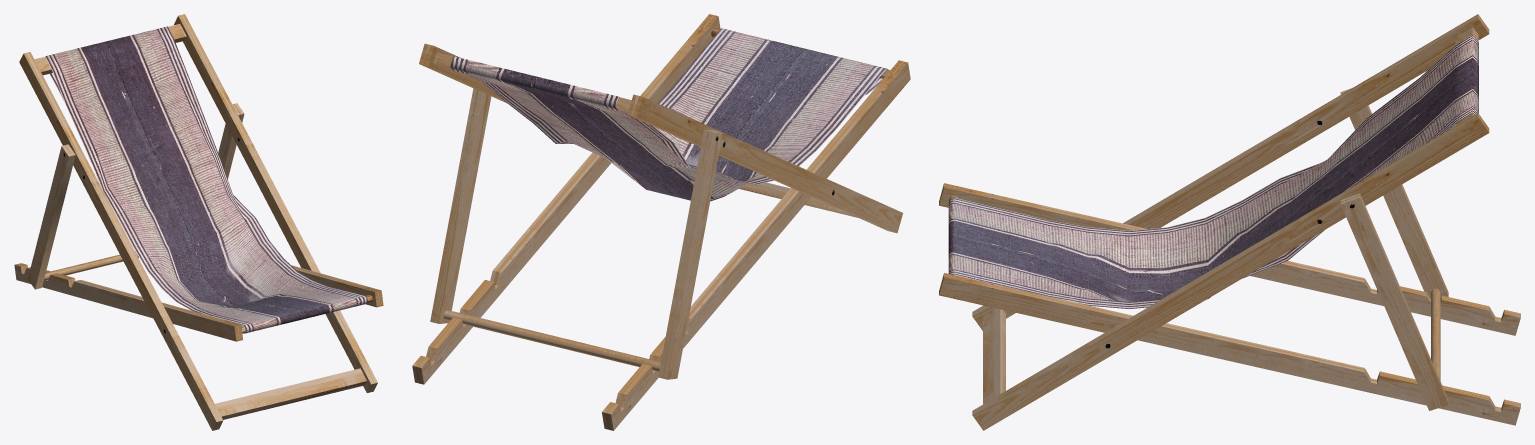
File: beach chair_01.FBX
3 renders of one model, left to right at view 1: azimuth 30°, elevation 25°; view 2: azimuth 150°, elevation 25°; view 3: azimuth 270°, elevation 25°, orthographic. The views are drawn at different scales.
Visible parts, largest first — view 1: beach chair_01; view 2: beach chair_01; view 3: beach chair_01.
Boxes of the visible parts, x1=… form: beach chair_01: x1=14, y1=14, x2=383, y2=430; beach chair_01: x1=412, y1=14, x2=910, y2=430; beach chair_01: x1=939, y1=14, x2=1520, y2=430.
Size of the model in its own units: 0.5778 by 0.7525 by 1.26.
